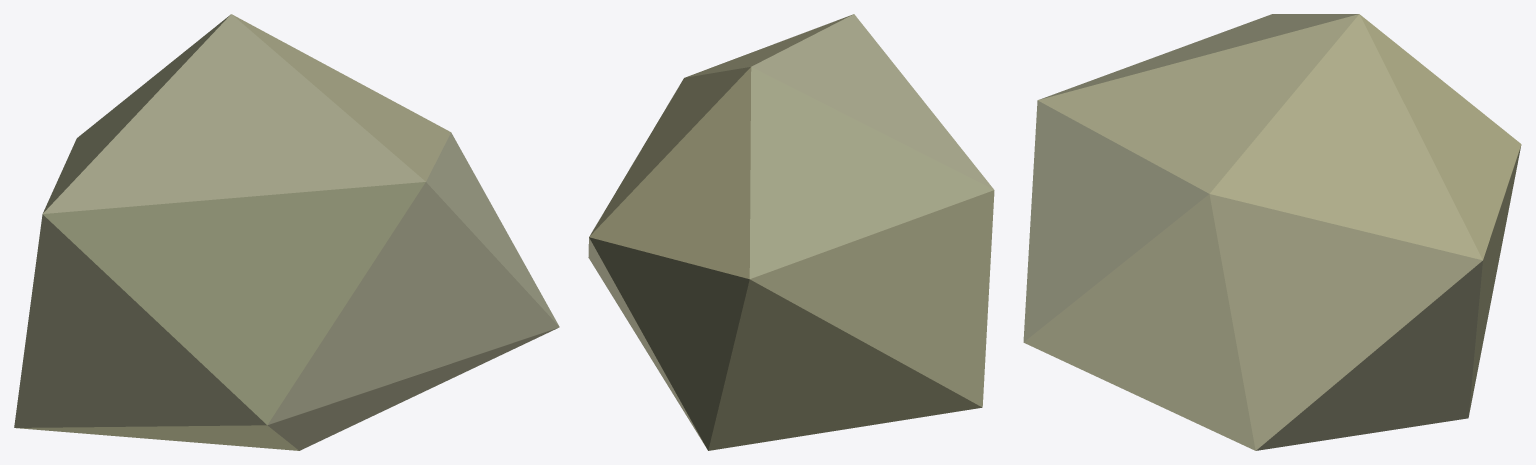
Rendered from Boulder01.glb.
The picture shows the model from 3 angles, left to right: view 1: azimuth 30°, elevation 25°; view 2: azimuth 150°, elevation 25°; view 3: azimuth 270°, elevation 25°; orthographic projection. The views are drawn at different scales.
Parts seen in each view (by area): view 1: Boulder01; view 2: Boulder01; view 3: Boulder01.
Part boxes in pixels (x1,y1,x2,y2): Boulder01: (14,14,559,450); Boulder01: (588,14,994,450); Boulder01: (1023,14,1521,450).
Size of the model in its own units: 0.6372 by 0.511 by 0.562.
